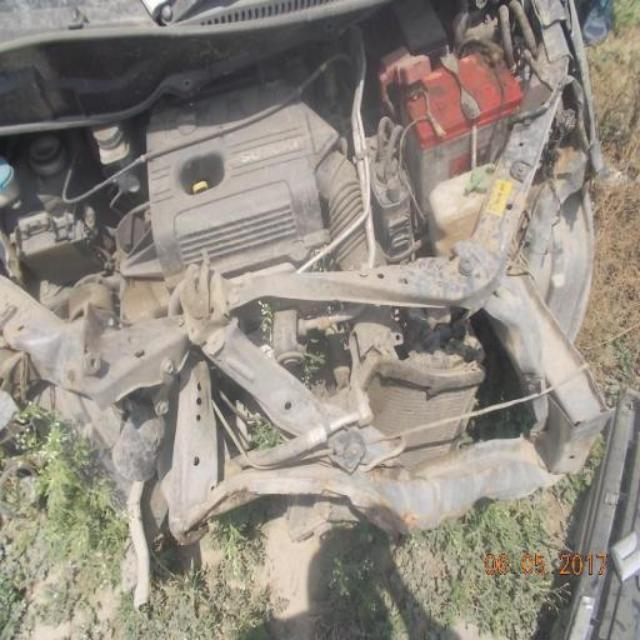no part: (6, 35, 613, 551)
